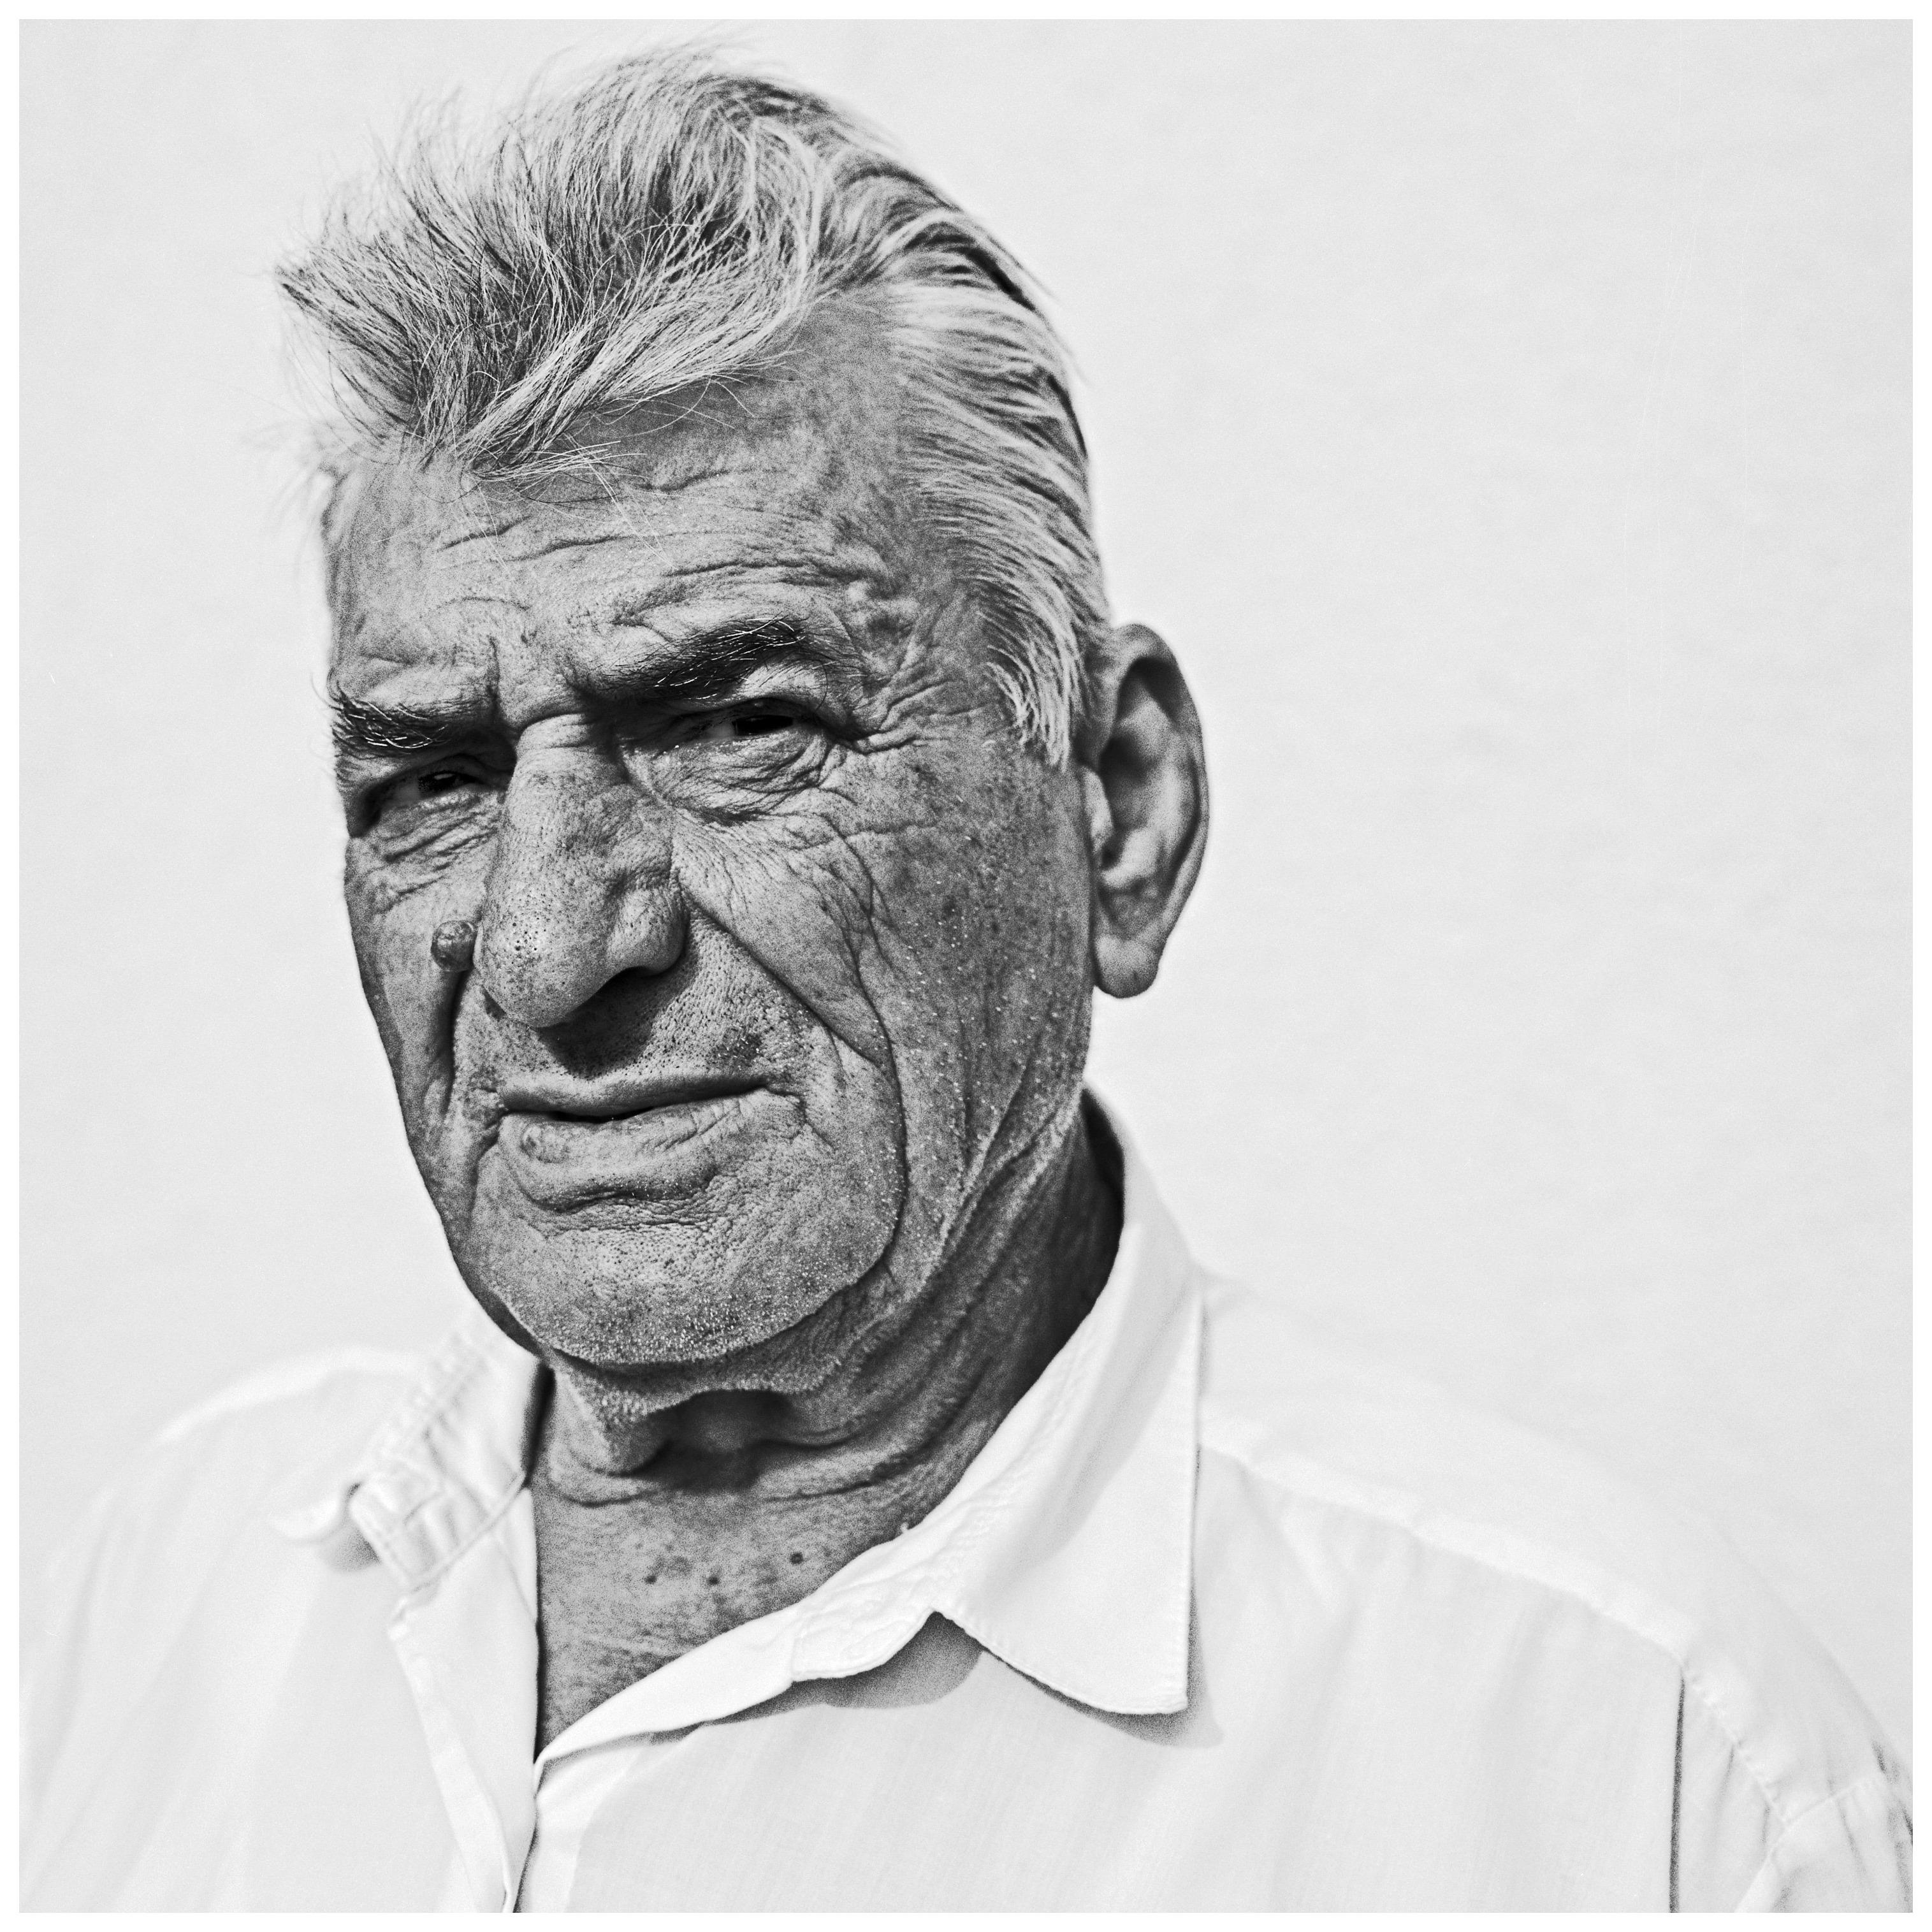Wrinkles: (855, 975, 911, 1300), (801, 855, 892, 971), (364, 600, 529, 660), (823, 819, 897, 927), (510, 534, 679, 563), (448, 513, 527, 545), (642, 472, 750, 490), (667, 561, 819, 573)
